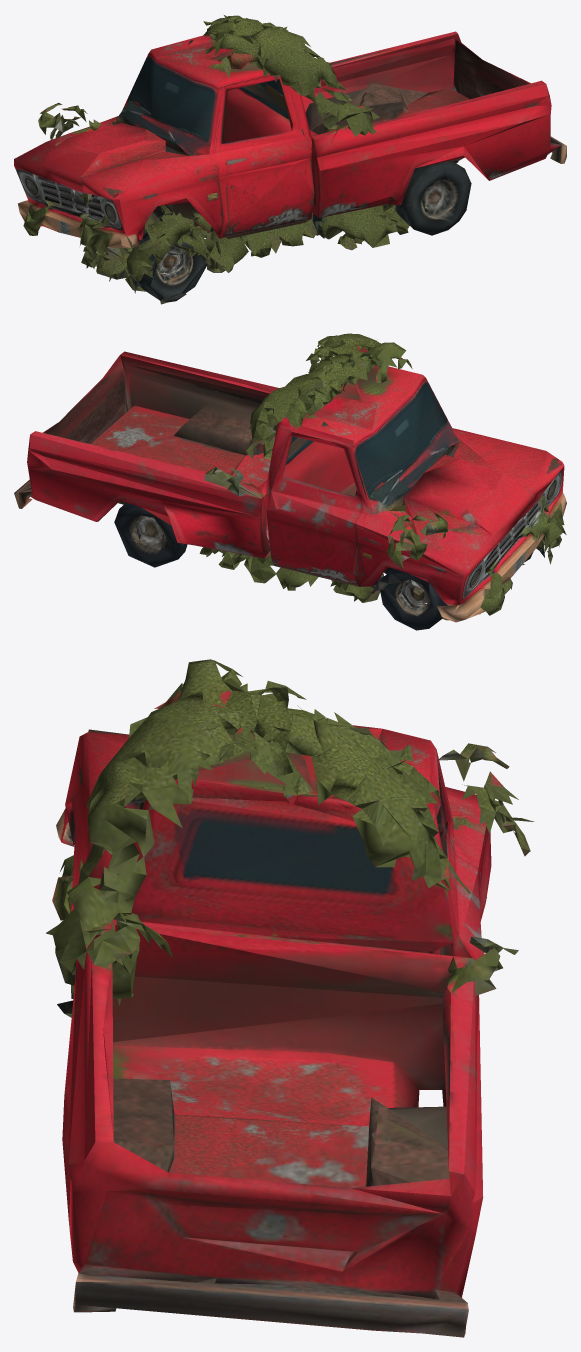
The model's file is PickupWreck.fbx.
3 views of the same model, one above another, from view 1: azimuth 30°, elevation 25°; view 2: azimuth 150°, elevation 25°; view 3: azimuth 270°, elevation 25° (orthographic). The views are drawn at different scales.
Visible parts, largest first — view 1: Mesh_0; view 2: Mesh_0; view 3: Mesh_0.
Part boxes in pixels (x1,y1,x2,y2): Mesh_0: (14, 15, 566, 304); Mesh_0: (14, 333, 566, 630); Mesh_0: (46, 659, 534, 1337).
Size of the model in its own units: 190 by 86.25 by 86.71.
Materials: 1 (1 with a texture image).
